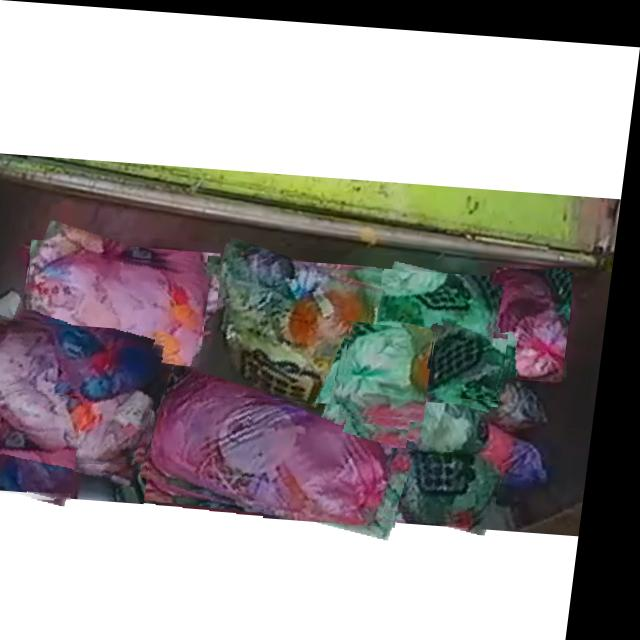general_trashbag: (228, 235, 377, 398), (385, 269, 499, 361), (400, 443, 512, 512), (353, 321, 431, 410), (437, 319, 513, 389)
other_trashbag: (163, 364, 412, 518), (0, 322, 165, 464), (34, 253, 216, 371), (0, 392, 88, 499), (500, 262, 575, 370)
